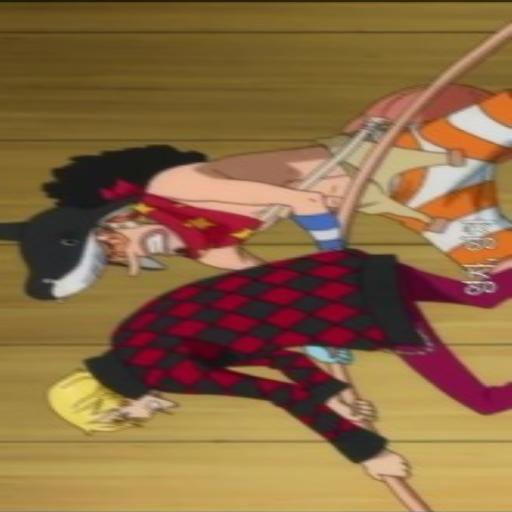Usopp: (62, 211, 198, 280)
sanji: (37, 368, 186, 434)
